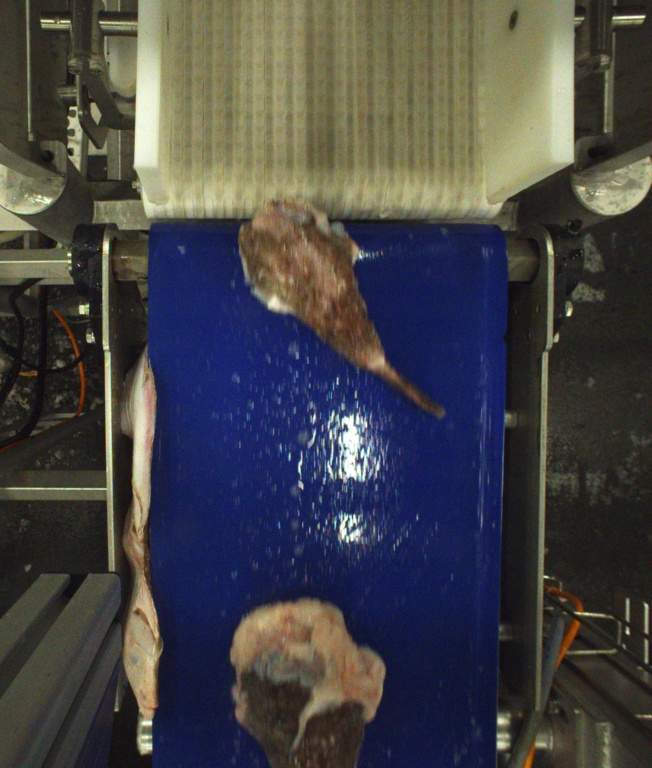ANF: (233, 195, 451, 424)
